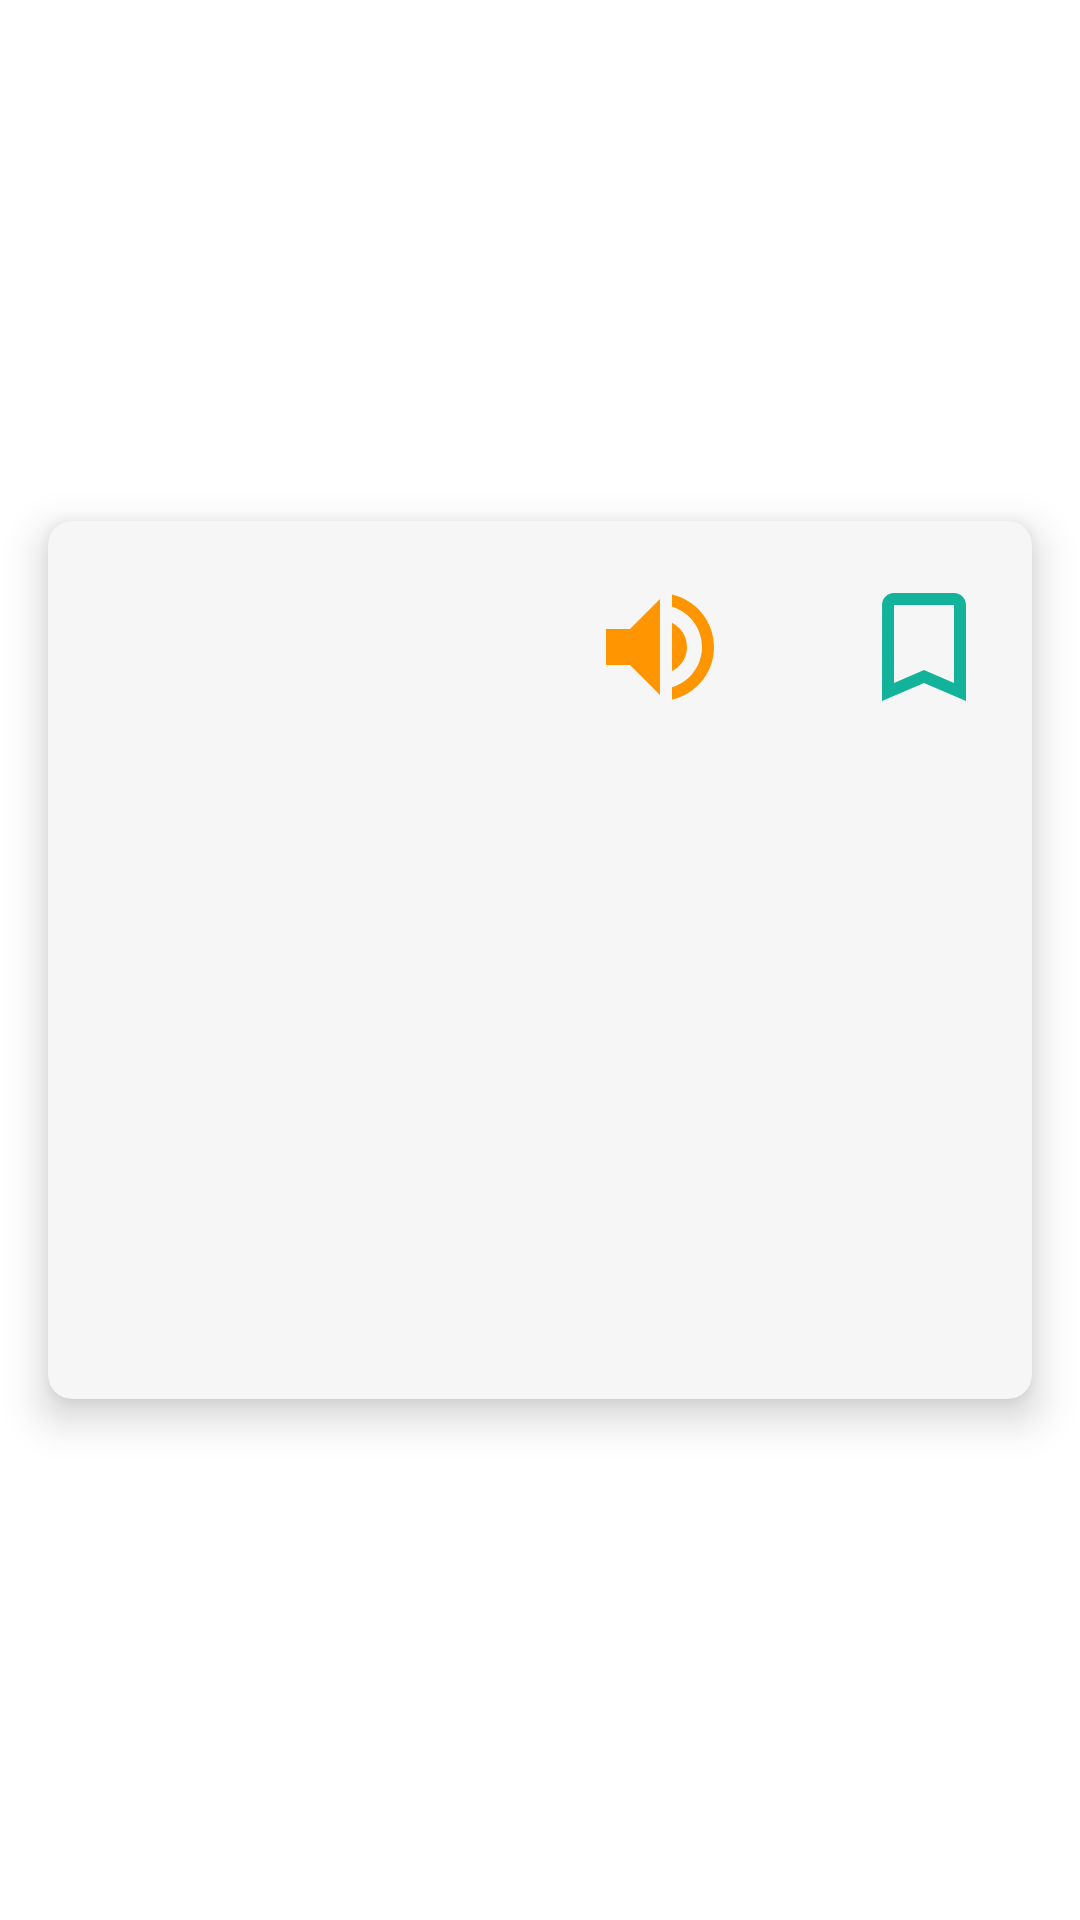

Where icons sit on this 1080×1920 app screen, as (x1, y1, x2, y2):
bookmark border: (882, 593, 966, 701)
volume up: (606, 594, 714, 700)
